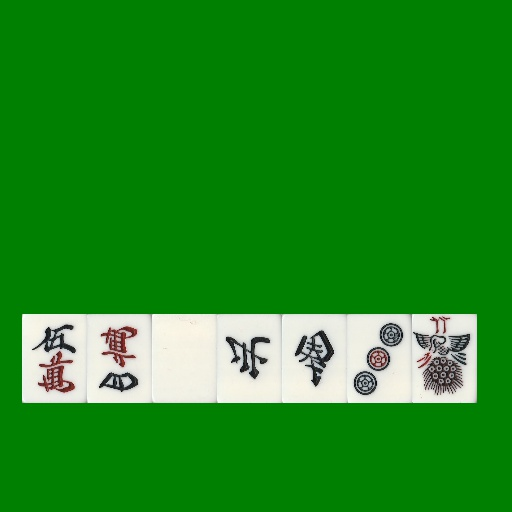1s: (412, 314, 477, 403)
3p: (347, 314, 412, 403)
4m: (87, 314, 152, 403)
5m: (22, 314, 87, 403)
north: (217, 314, 282, 403)
south: (282, 314, 347, 403)
white: (152, 314, 217, 403)
